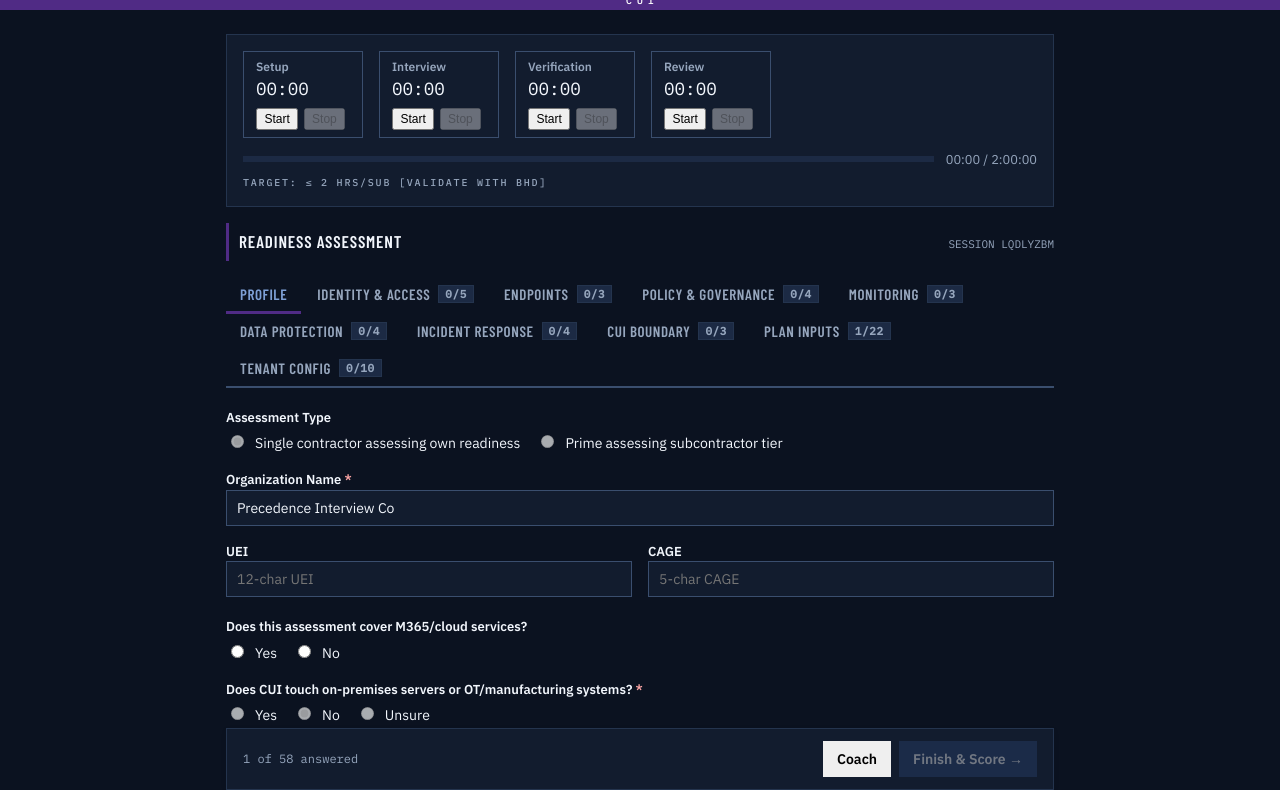
Test: MU-10 precedence in the interview › an operator-answered SIT-020 stays on screen with its answer; un-answered derived S-20 is pruned
The width and height of the screenshot is (1280, 790).
Click the tab with test id "tab-plan-input:si".
click(827, 332)  # box [750,314,905,351]
(page scrolled)
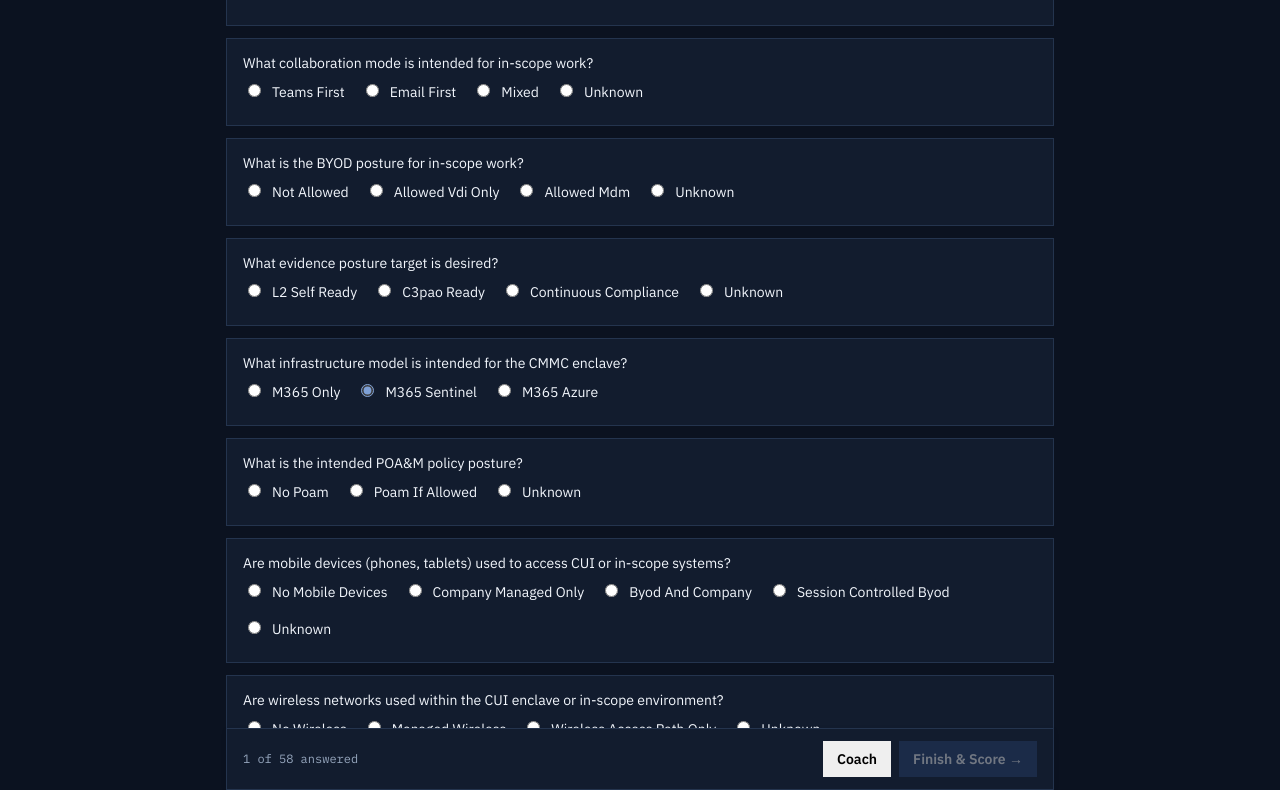
expect the radio button named "SIT-020" holds "m365_sentinel": met, box [361,384,374,397]
